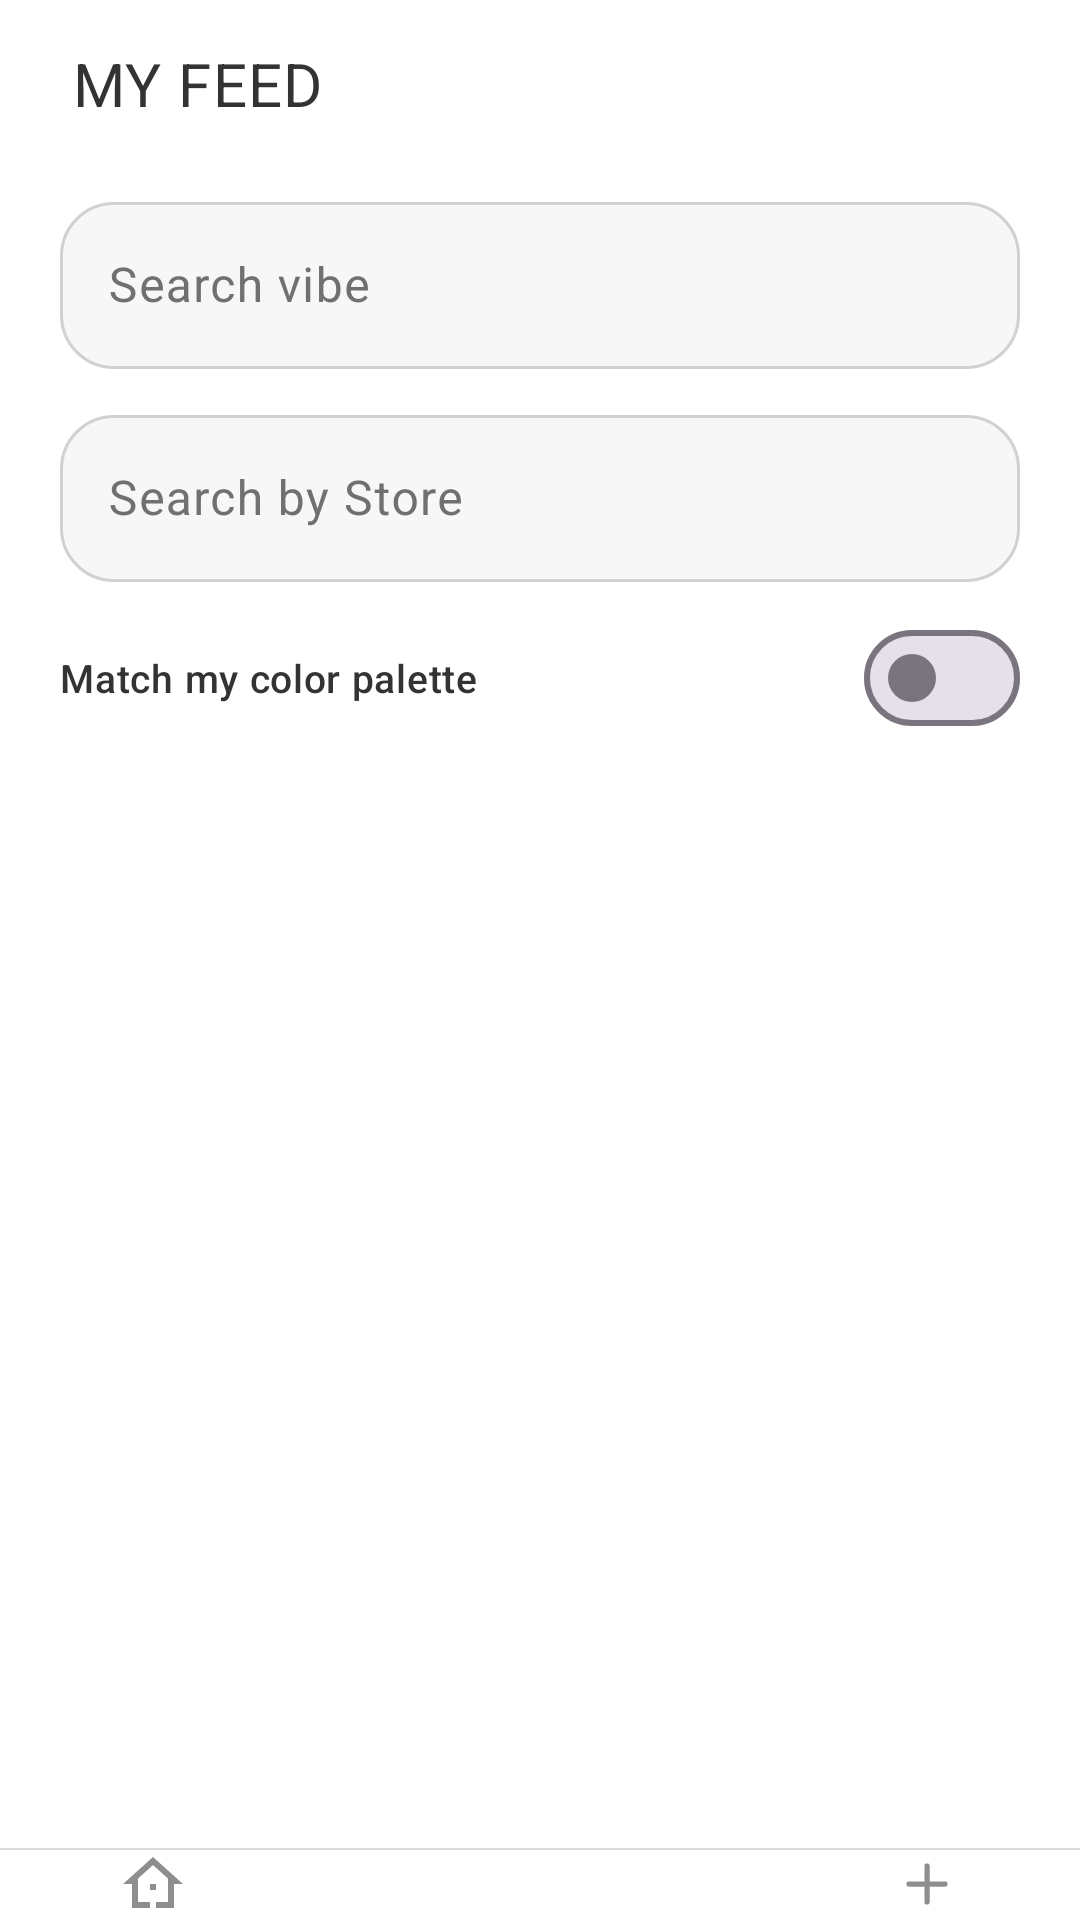

Named icons in this screenshot (1080x1920) and their bounding boxes, (x1, y1, x2, y2):
MY FEED: (123, 1857, 183, 1908)
